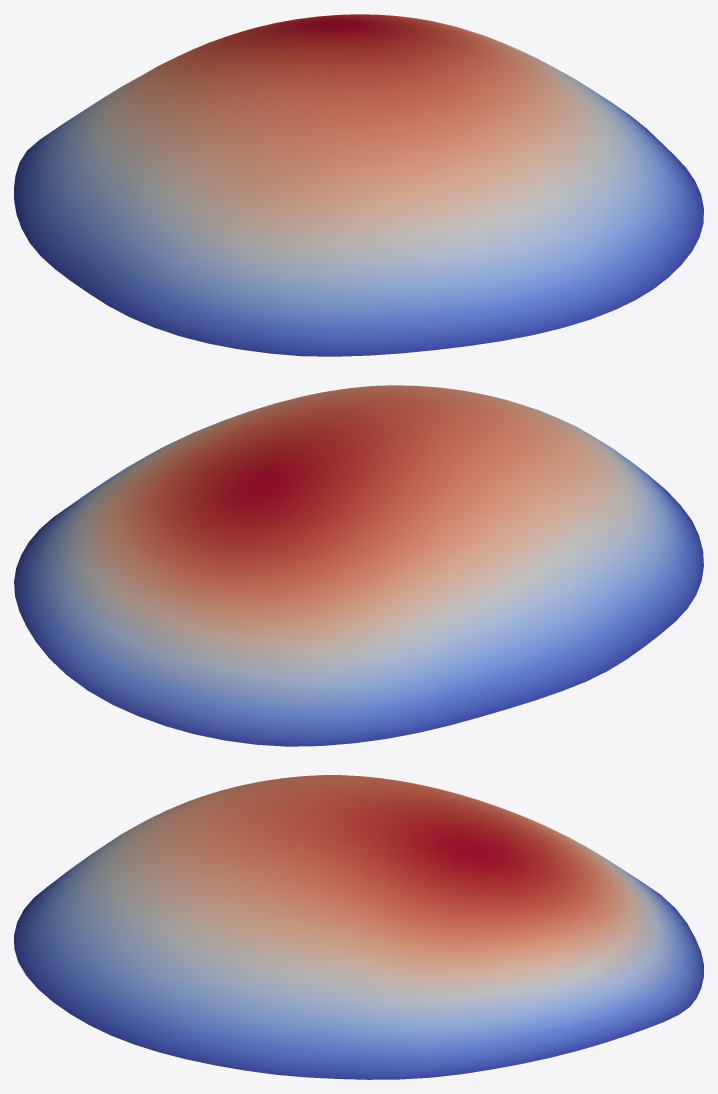
The model's file is Shell_Def.glb.
3 renders of one model, top to bottom at view 1: azimuth 30°, elevation 25°; view 2: azimuth 150°, elevation 25°; view 3: azimuth 270°, elevation 25°, orthographic. The views are drawn at different scales.
Parts seen in each view (by area): view 1: Shell_27; view 2: Shell_27; view 3: Shell_27.
Part boxes in pixels (left/top/right/bottom): Shell_27: left=14, top=14, right=703, bottom=356; Shell_27: left=14, top=385, right=703, bottom=746; Shell_27: left=14, top=775, right=703, bottom=1079.
Size of the model in its own units: 0.9488 by 0.267 by 1.06.
